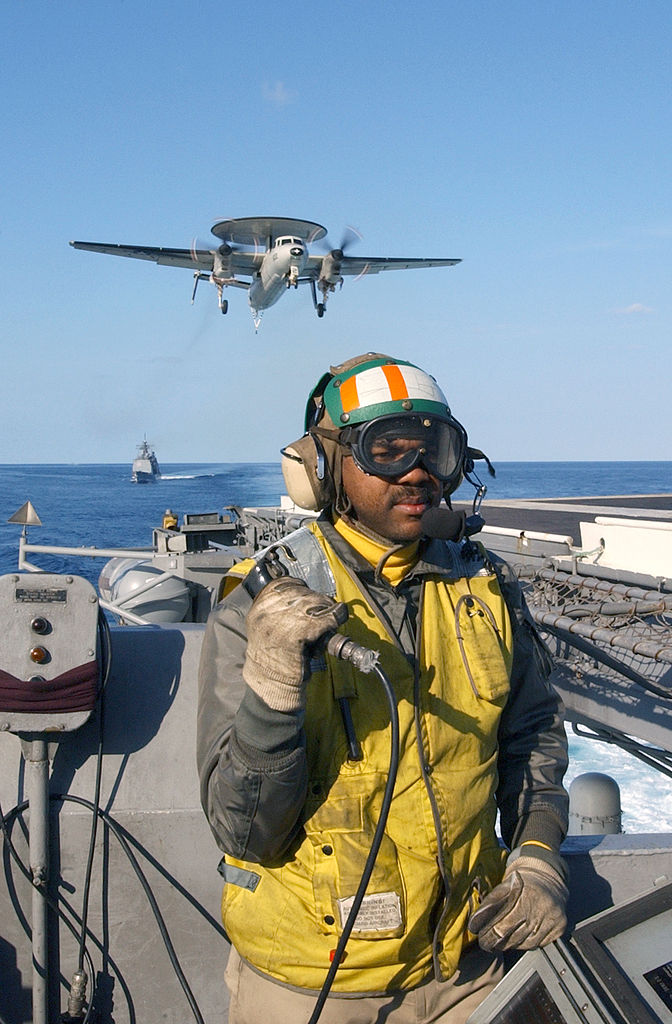E2: (68, 216, 463, 335)
